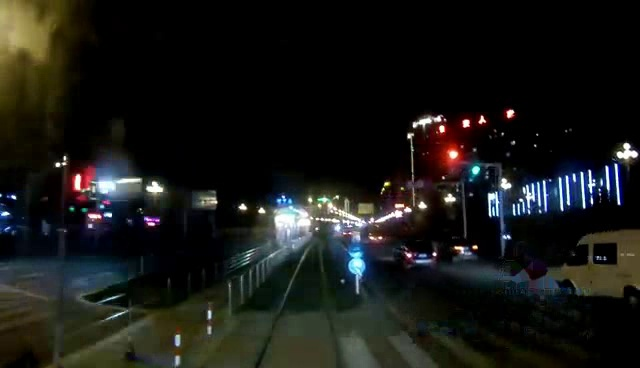car: (395, 238, 441, 271), (443, 238, 483, 265)
